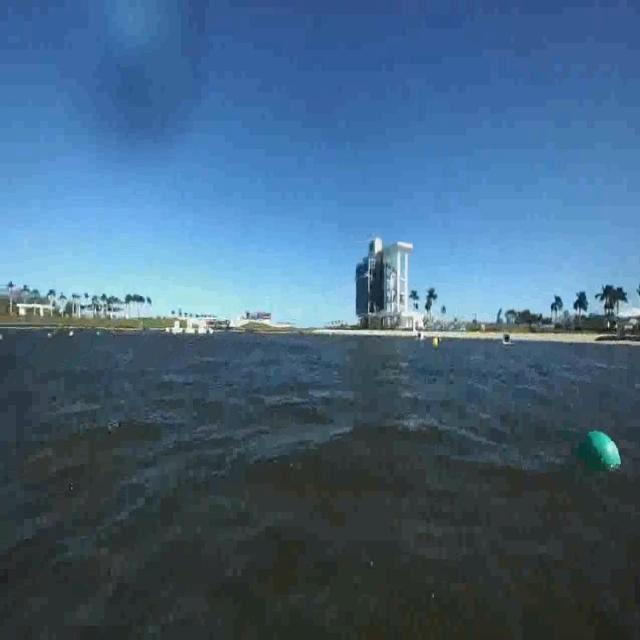green-buoy: (574, 429, 623, 474)
yellow-buoy: (432, 336, 440, 351)
